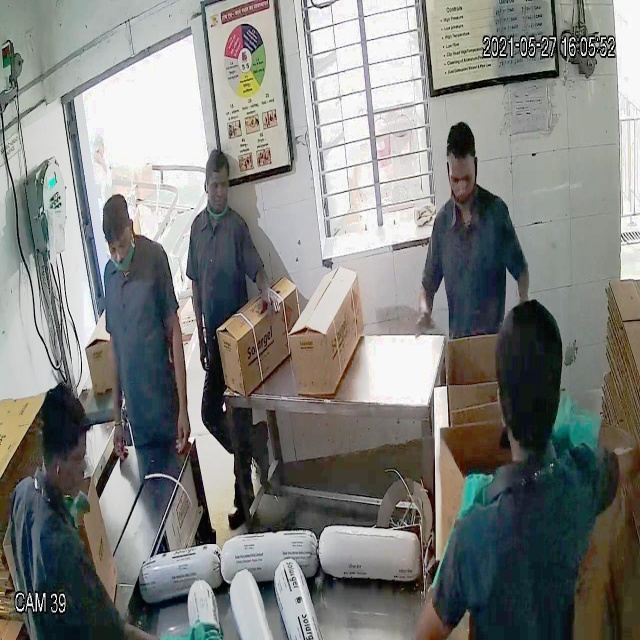Sin_gafas: (439, 158, 491, 196), (97, 231, 144, 265)
